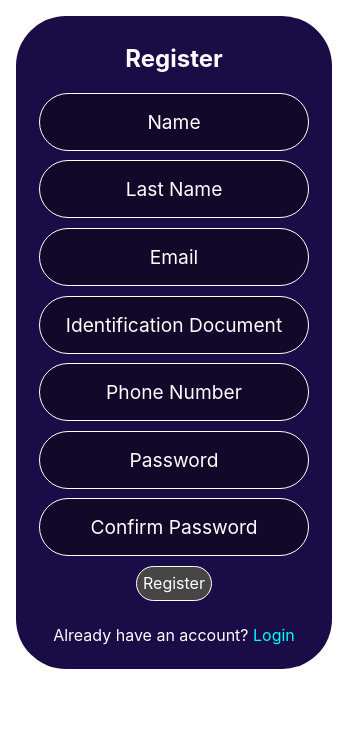
it: Register Component › shows success message when registration succeeds
In the field with placeholder "Name": [174, 122] box [39,93,309,151], type "John"
In the field with placeholder "Last Name": [174, 189] box [39,160,309,218], type "Doe"
In the field with placeholder "Email": [174, 257] box [39,228,309,286], type "john.doe@example.com"
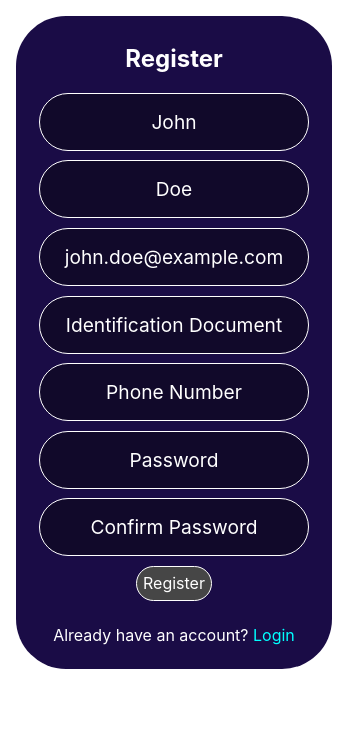
In the field with placeholder "Identification Document": [174, 325] box [39,296,309,354], type "12345678"
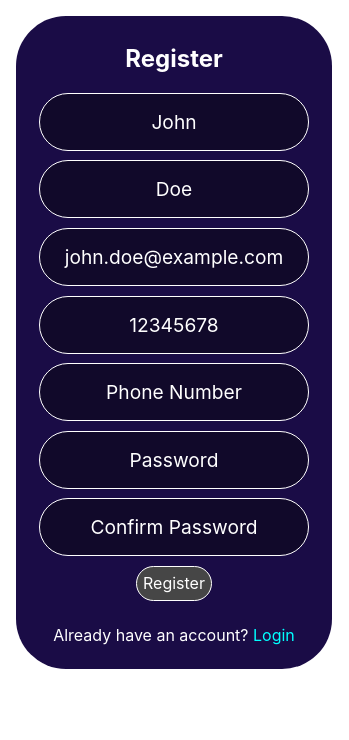
In the field with placeholder "Phone Number": [174, 392] box [39,363,309,421], type "1234567890"
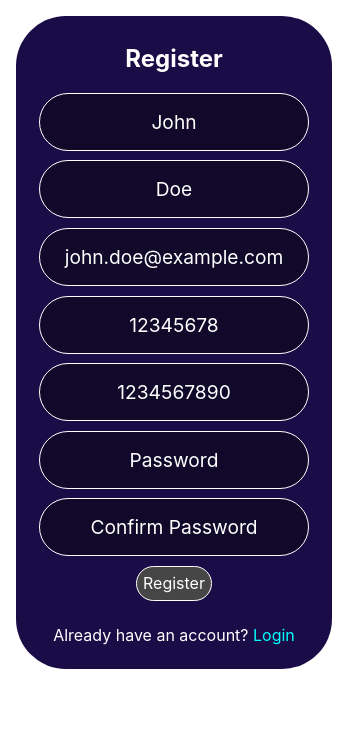
In the password field with placeholder "Password": [174, 460] box [39,431,309,489], type "secure123"
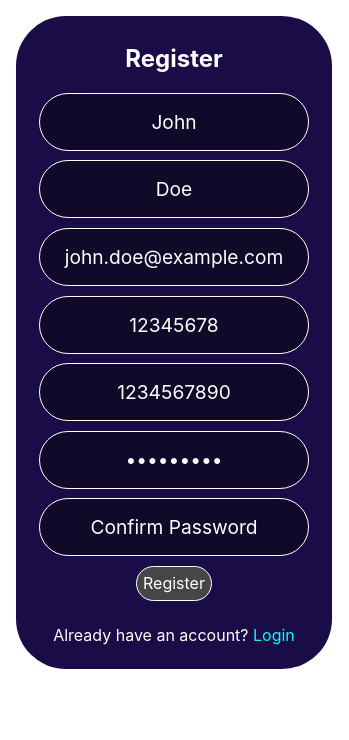
In the password field with placeholder "Confirm Password": [174, 527] box [39,498,309,556], type "secure123"
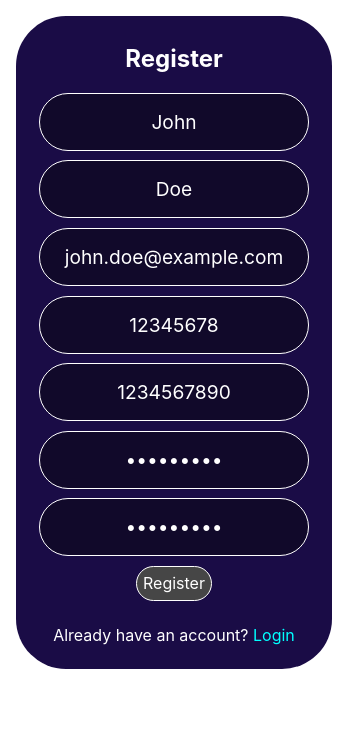
Submit the form with test id "register-form", box [24,93,324,609]
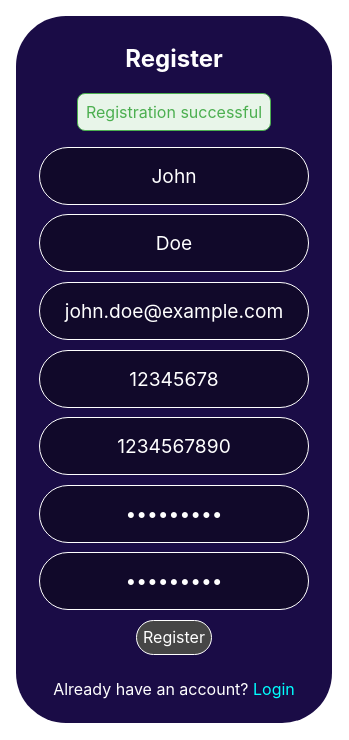
expect the text "Registration successful" is shown: met, box [77,93,271,131]
